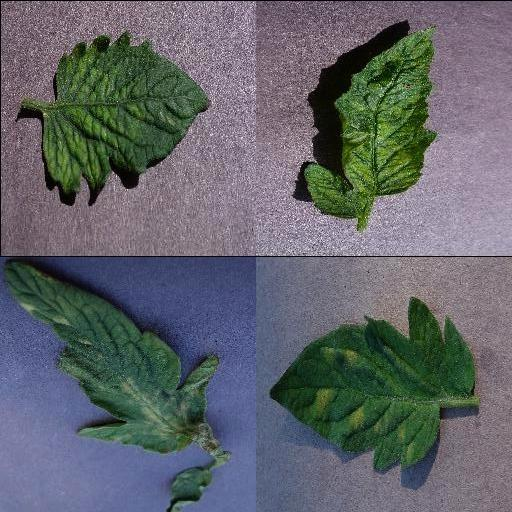Leaf Mold: (1, 260, 217, 452), (268, 295, 476, 471)
Mosaic Virus: (42, 30, 210, 194), (303, 21, 437, 217)
